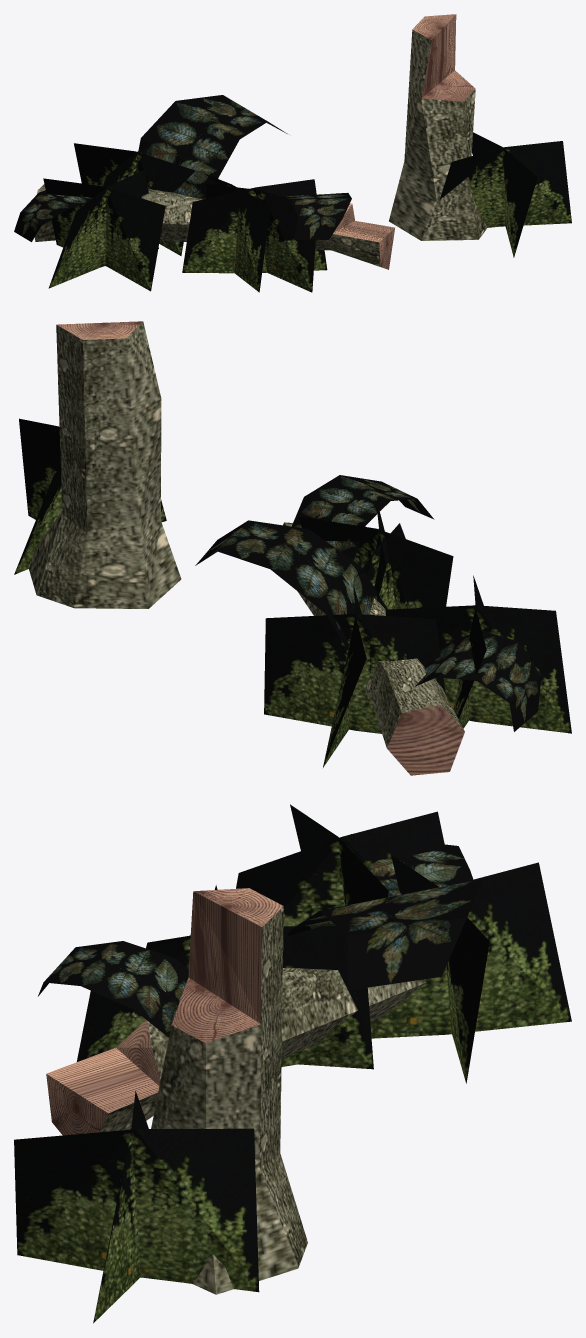
File: deadtree.obj
3 renders of one model, top to bottom at view 1: azimuth 30°, elevation 25°; view 2: azimuth 150°, elevation 25°; view 3: azimuth 270°, elevation 25°, orthographic. The views are drawn at different scales.
Parts seen in each view (by area): view 1: DEAD_TREE_10; view 2: DEAD_TREE_10; view 3: DEAD_TREE_10.
Part boxes in pixels (<box>): DEAD_TREE_10: <box>14,14,571,292</box>; DEAD_TREE_10: <box>14,321,571,775</box>; DEAD_TREE_10: <box>14,804,571,1323</box>.
Bounding box in the file's own units: 5.67 × 2.25 × 3.36.
